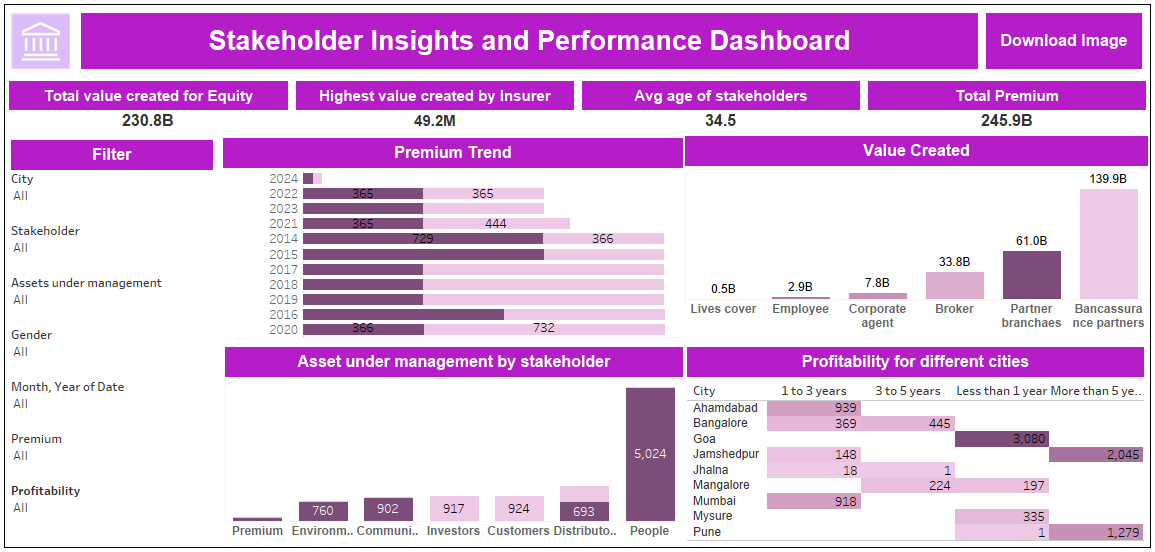

This screenshot's page, from the dashboard's own definition file:
{"tool":"tableau","page":{"name":"Dashboard 1","canvas":[1000,1000],"units":"permille","ordinal":0},"visuals":[{"type":"image","param":"Image/download.png","box":[7.8,16.3,58.9,115.9]},{"type":"text","box":[66.7,16.3,783.6,115.9]},{"type":"dashboard-object","box":[850.2,16.3,142,115.9]},{"type":"worksheet","title":"Sheet 8","mark":"Automatic","box":[4.3,139.5,248.5,103.3]},{"type":"worksheet","title":"highest value","mark":"Automatic","box":[252.8,139.5,247.6,103.3]},{"type":"worksheet","title":"age","mark":"Automatic","box":[500.4,139.5,247.6,103.3]},{"type":"worksheet","title":"total prem","mark":"Automatic","box":[748.1,139.5,247.6,103.3]},{"type":"worksheet","title":"filter","mark":"Automatic","box":[6.1,246.4,181.8,52.5]},{"type":"worksheet","title":"premuim trend","mark":"Bar","rows":["Date"],"cols":["Premium"],"box":[191.3,246.4,401.7,367.8]},{"type":"worksheet","title":"value created","mark":"Automatic","rows":["Value Created"],"cols":["Insurer"],"box":[593.1,246.4,400.9,367.8]},{"type":"filter","title":"filter","param":"[federated.0i7jodx0txtg3c1ea838o1w14z28].[none:City:nk]","box":[6.1,298.9,181.8,94.2]},{"type":"filter","title":"filter","param":"[federated.0i7jodx0txtg3c1ea838o1w14z28].[none:Stakeholder:nk]","box":[6.1,393.1,181.8,94.2]},{"type":"filter","title":"filter","param":"[federated.0i7jodx0txtg3c1ea838o1w14z28].[none:Assets under management:nk]","box":[6.1,487.3,181.8,94.2]},{"type":"filter","title":"filter","param":"[federated.0i7jodx0txtg3c1ea838o1w14z28].[none:Gender:nk]","box":[6.1,581.5,181.8,94.2]},{"type":"worksheet","title":"asset","mark":"Automatic","rows":["Assets under management"],"cols":["Stakeholder"],"box":[193.1,625,400,358.7]},{"type":"worksheet","title":"cities","mark":"Square","rows":["City"],"cols":["Policy tenuer"],"box":[593.1,625,399.1,358.7]},{"type":"filter","title":"filter","param":"[federated.0i7jodx0txtg3c1ea838o1w14z28].[my:Date:ok]","box":[6.1,675.7,181.8,94.2]},{"type":"filter","title":"filter","param":"[federated.0i7jodx0txtg3c1ea838o1w14z28].[none:Premium 1:nk]","box":[6.1,769.9,181.8,94.2]},{"type":"filter","title":"filter","param":"[federated.0i7jodx0txtg3c1ea838o1w14z28].[none:Profitability:nk]","box":[6.1,864.1,181.8,94.2]}]}

Visuals, with their boxes on the dashboard's canvas, which has no fixed pixel size, in thousandths of its width and height (x1, y1, x2, y2). These are canvas units, not pixel positions in the 1155x552 screenshot, which may show the page scaled, cropped or inside an application window:
image: bbox=(8, 16, 67, 132)
text: bbox=(67, 16, 850, 132)
dashboard-object: bbox=(850, 16, 992, 132)
"Sheet 8" worksheet: bbox=(4, 140, 253, 243)
"highest value" worksheet: bbox=(253, 140, 500, 243)
"age" worksheet: bbox=(500, 140, 748, 243)
"total prem" worksheet: bbox=(748, 140, 996, 243)
"filter" worksheet: bbox=(6, 246, 188, 299)
"premuim trend" worksheet (Bar marks): bbox=(191, 246, 593, 614)
"value created" worksheet: bbox=(593, 246, 994, 614)
"filter" filter: bbox=(6, 299, 188, 393)
"filter" filter: bbox=(6, 393, 188, 487)
"filter" filter: bbox=(6, 487, 188, 582)
"filter" filter: bbox=(6, 582, 188, 676)
"asset" worksheet: bbox=(193, 625, 593, 984)
"cities" worksheet (Square marks): bbox=(593, 625, 992, 984)
"filter" filter: bbox=(6, 676, 188, 770)
"filter" filter: bbox=(6, 770, 188, 864)
"filter" filter: bbox=(6, 864, 188, 958)
